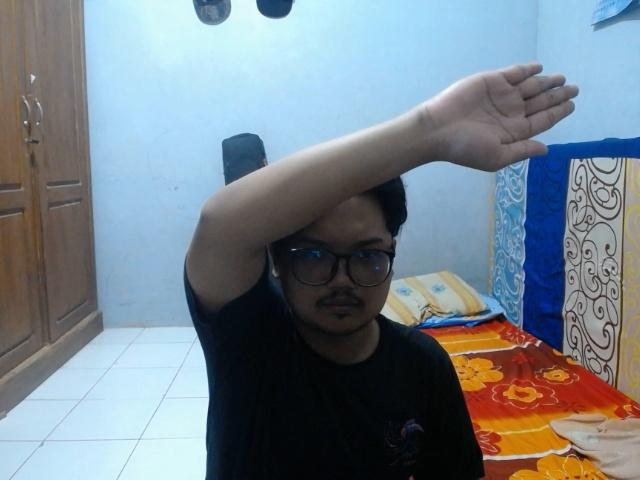Release: (417, 56, 583, 174)
